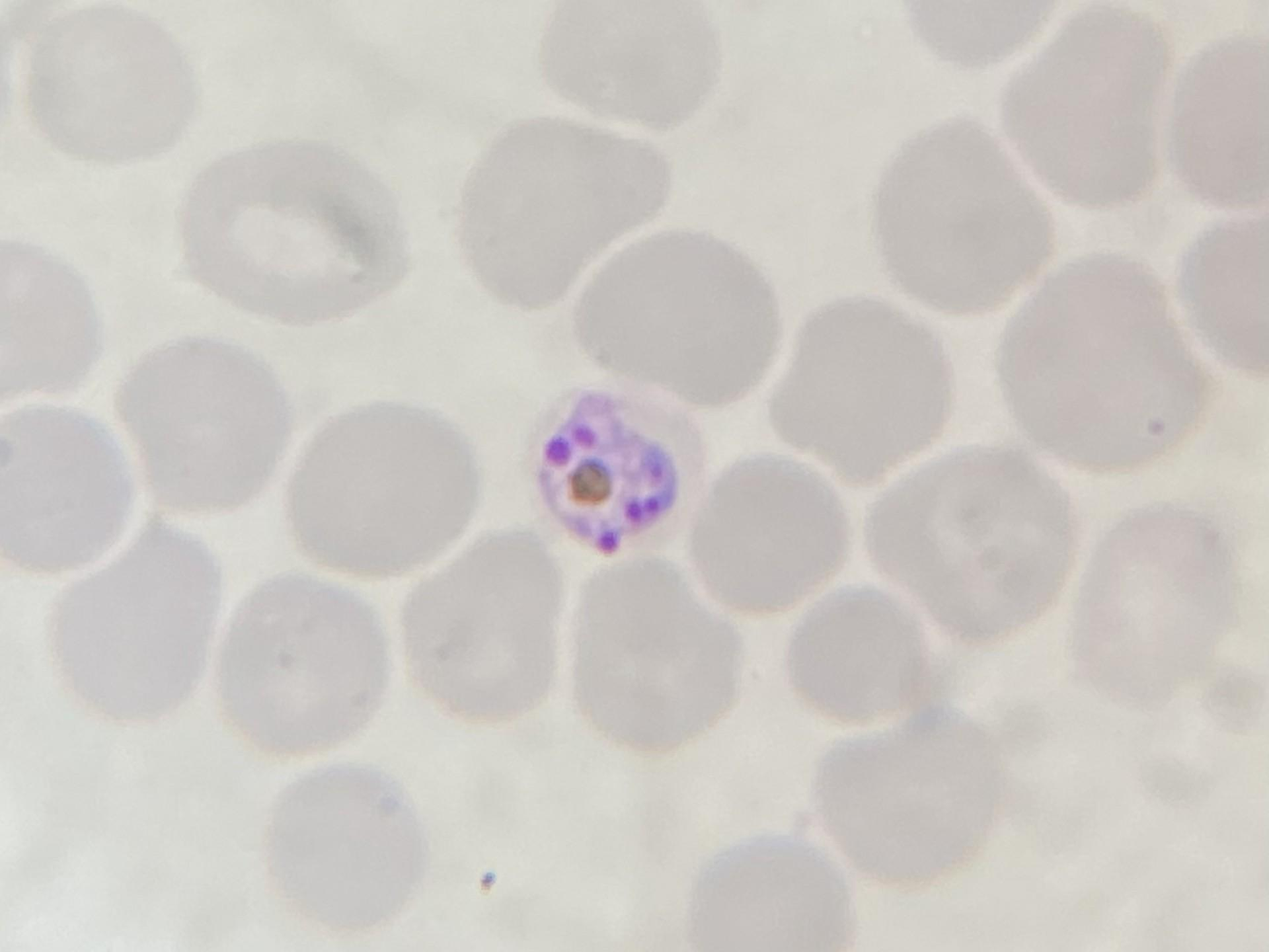Infected: (529, 386, 701, 554)
Uninfected: (1002, 256, 1216, 473), (458, 111, 673, 315), (183, 146, 416, 332), (866, 450, 1080, 642), (879, 113, 1059, 320), (575, 232, 784, 408), (284, 400, 485, 583), (48, 521, 231, 721), (769, 296, 958, 486), (1000, 3, 1172, 211), (573, 558, 739, 756), (401, 521, 561, 726), (813, 710, 1003, 880), (227, 574, 392, 756), (123, 338, 292, 504), (690, 455, 856, 620), (20, 12, 203, 161), (267, 763, 422, 921), (544, 0, 717, 130), (0, 408, 140, 568), (683, 834, 864, 952), (787, 583, 931, 715)
